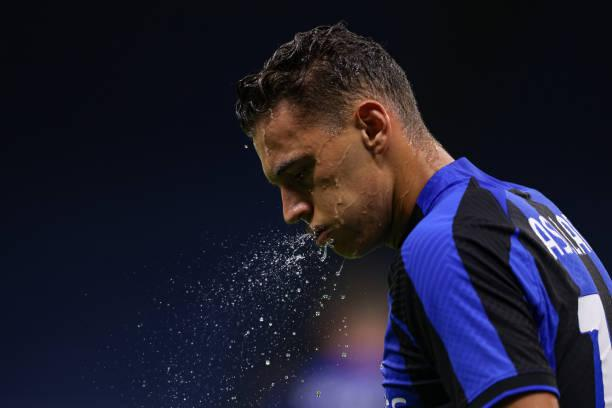Spitting: (236, 0, 421, 284)
